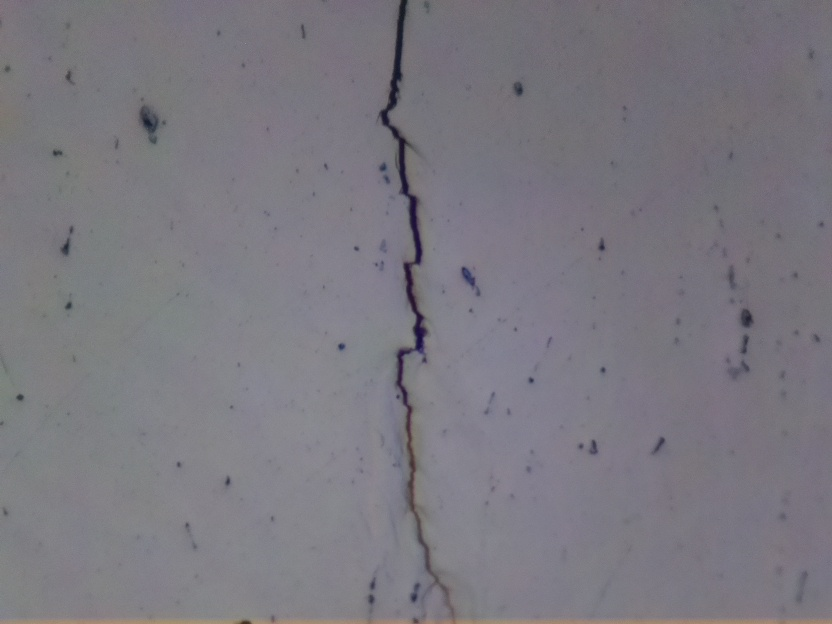crack: (378, 0, 463, 624)
